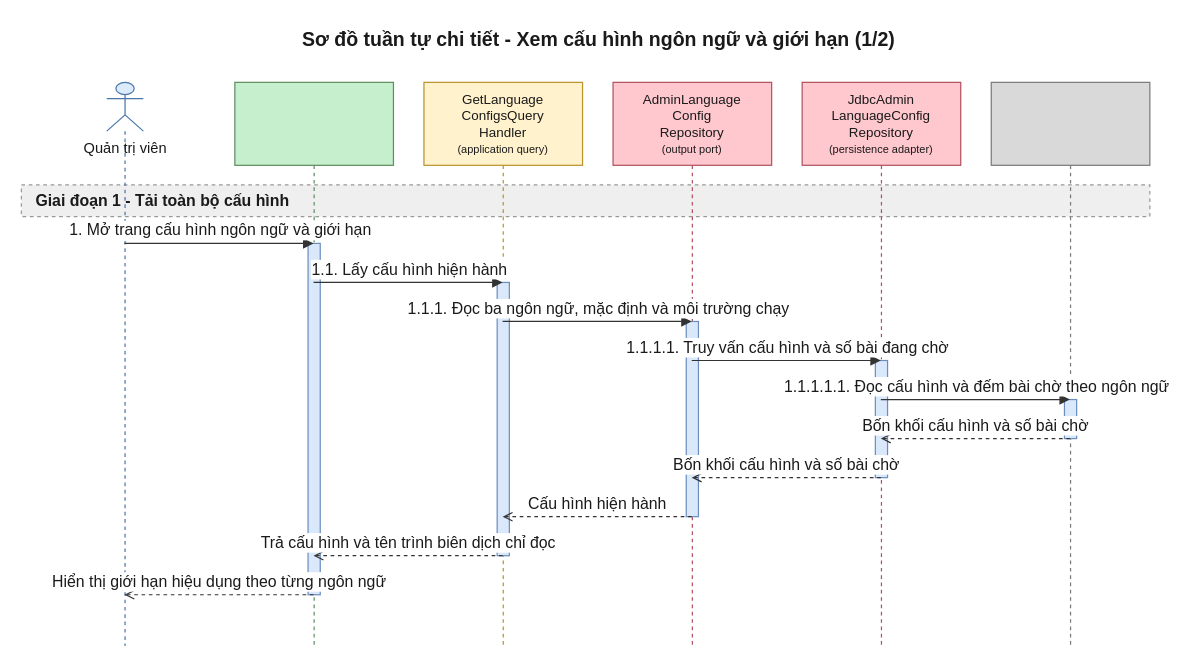
The diagram is 1190 pixels wide and 667 high, and some of its shapes have lost their labels. The shapes that lost their labels are listed below. From the top down, each one's box as (x1, y1, x2, y2) in pixels, then its label:
(234, 81, 393, 646): AdminLanguage Config Controller (presentation)
(990, 81, 1150, 646): PostgreSQL (schema judge)
